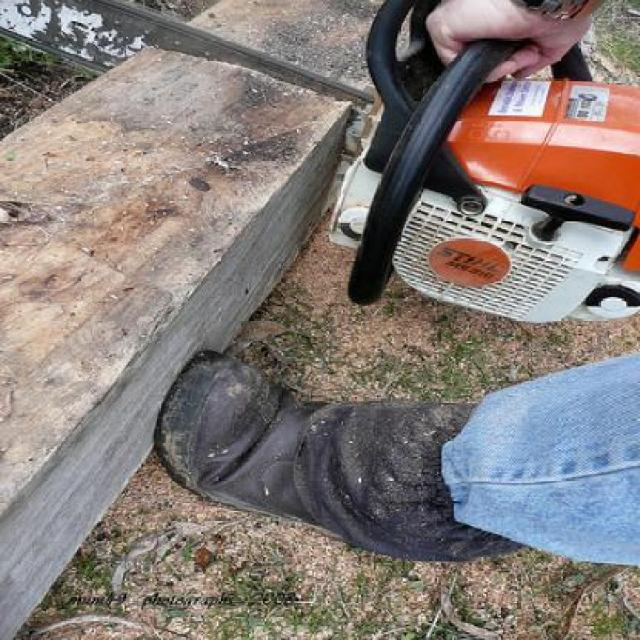Chainsaw: (9, 0, 640, 317)
